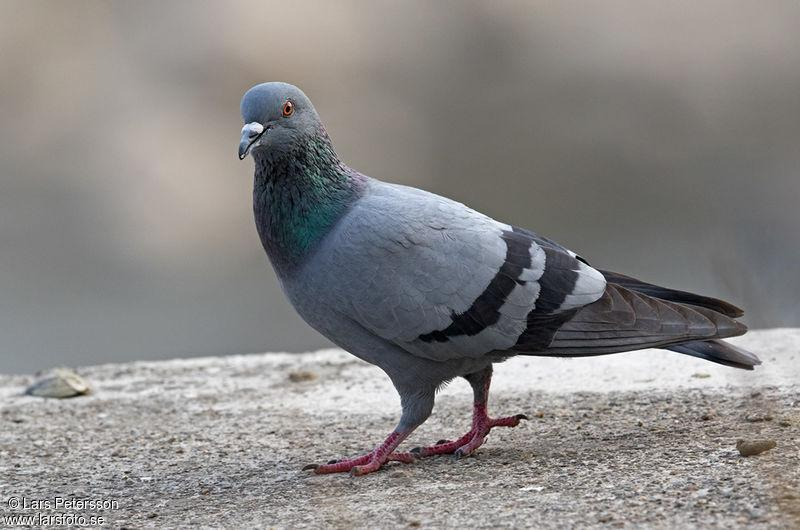Flying Rat: (221, 77, 763, 473)
